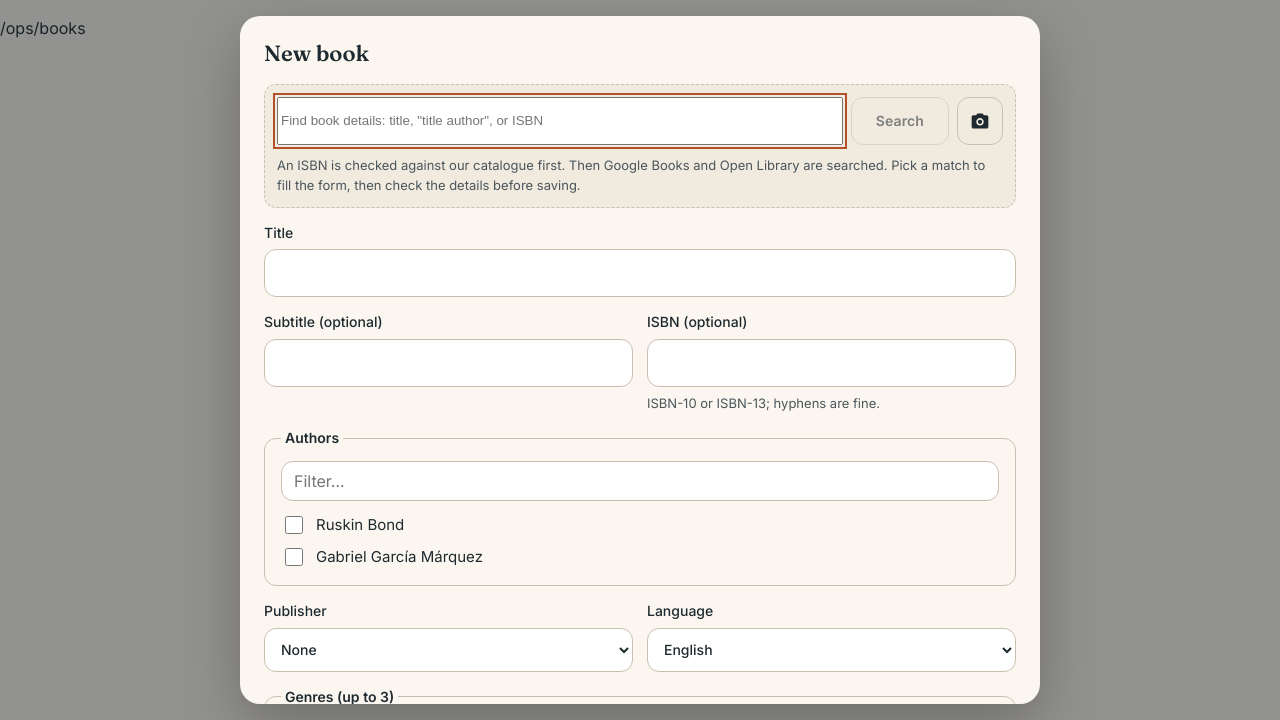
it: New book: find book details › answers an ISBN we already have from our own catalogue, without the outside lookup
Type "0-306-40615-2" into the search field labelled "Find book details". click: x=560, y=120
box: x1=277 y1=96 x2=843 y2=144
Then press Enter
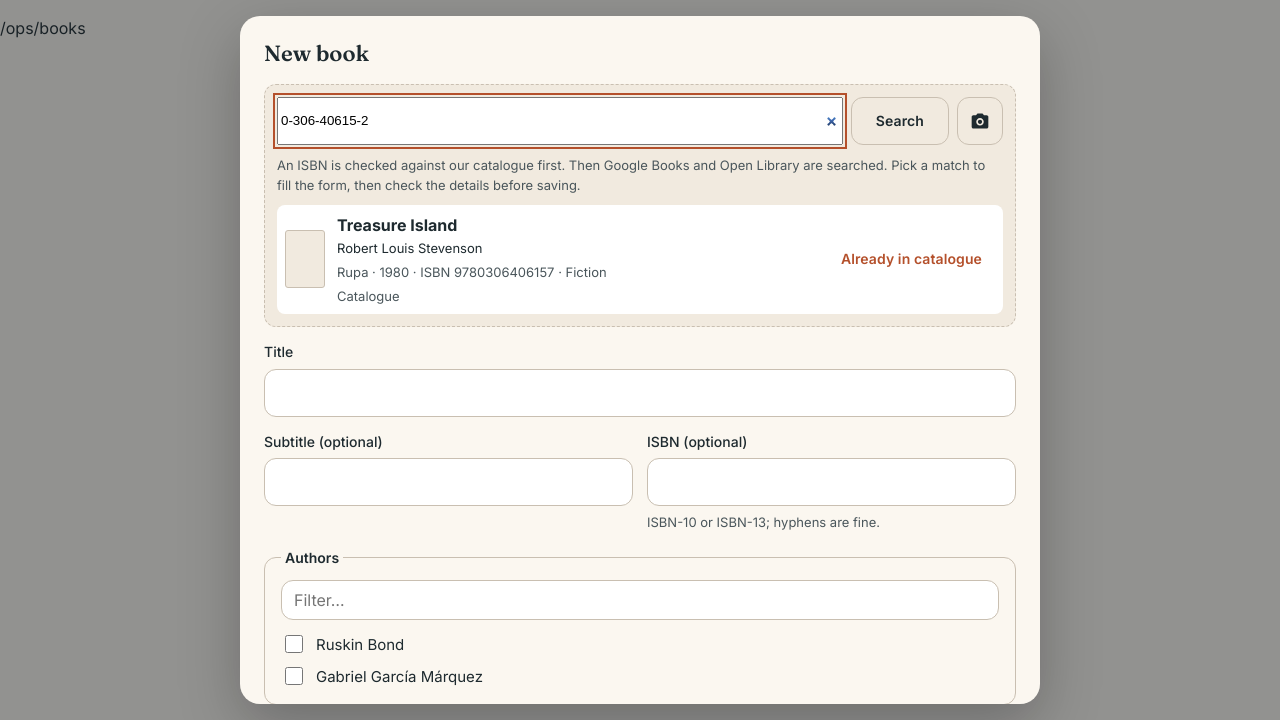
Expected: the field labelled "Title" is empty, x1=264 y1=369 x2=1016 y2=417
Now the text "Treasure Island" is shown, box x1=337 y1=215 x2=457 y2=235
